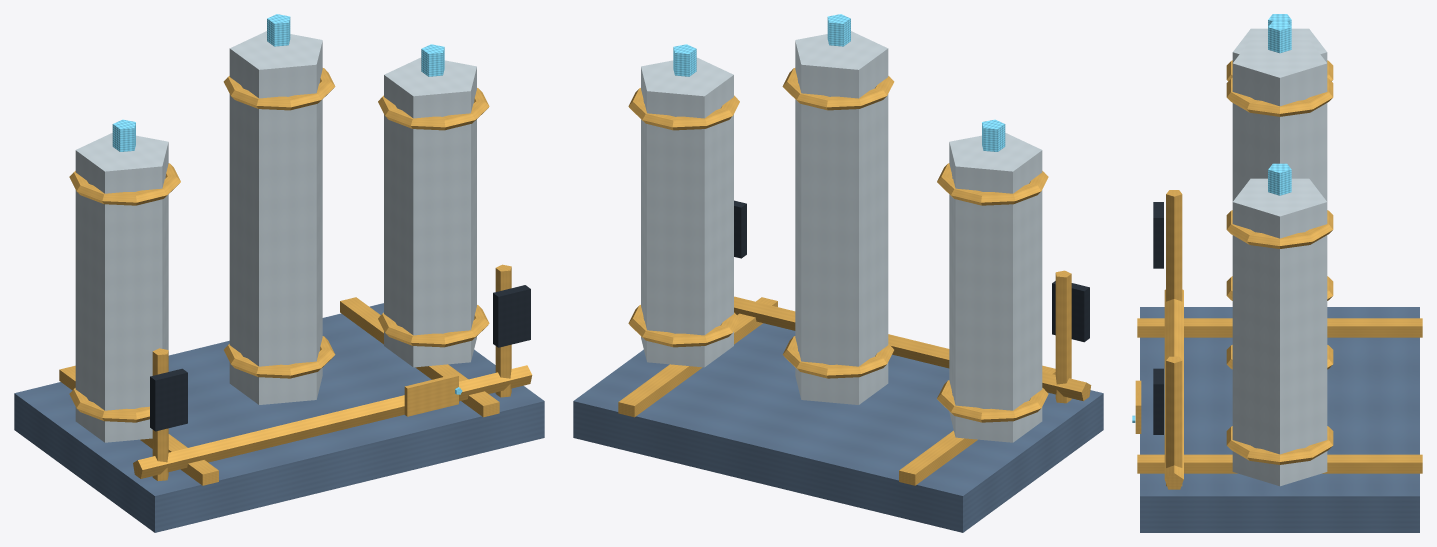
Rendered from atlas100-s055-a02.lod1.glb.
3 views of the same model, side by side, from view 1: azimuth 30°, elevation 25°; view 2: azimuth 150°, elevation 25°; view 3: azimuth 270°, elevation 25° (orthographic).
Visible parts, largest first — view 1: atlas100-s055-a02:part-000, atlas100-s055-a02:part-007, atlas100-s055-a02:part-011, atlas100-s055-a02:part-003, atlas100-s055-a02:part-019, atlas100-s055-a02:part-002, atlas100-s055-a02:part-016, atlas100-s055-a02:part-018, atlas100-s055-a02:part-020, atlas100-s055-a02:part-009, atlas100-s055-a02:part-005, atlas100-s055-a02:part-008 (+9 smaller); view 2: atlas100-s055-a02:part-000, atlas100-s055-a02:part-007, atlas100-s055-a02:part-003, atlas100-s055-a02:part-011, atlas100-s055-a02:part-019, atlas100-s055-a02:part-002, atlas100-s055-a02:part-015, atlas100-s055-a02:part-001, atlas100-s055-a02:part-004, atlas100-s055-a02:part-009, atlas100-s055-a02:part-005, atlas100-s055-a02:part-008 (+7 smaller); view 3: atlas100-s055-a02:part-000, atlas100-s055-a02:part-011, atlas100-s055-a02:part-007, atlas100-s055-a02:part-002, atlas100-s055-a02:part-001, atlas100-s055-a02:part-019, atlas100-s055-a02:part-017, atlas100-s055-a02:part-015, atlas100-s055-a02:part-012, atlas100-s055-a02:part-013, atlas100-s055-a02:part-009, atlas100-s055-a02:part-003 (+5 smaller).
Part boxes in pixels (left/top/right/bottom): atlas100-s055-a02:part-000: left=14, top=303, right=544, bottom=532; atlas100-s055-a02:part-007: left=229, top=31, right=322, bottom=404; atlas100-s055-a02:part-011: left=384, top=57, right=476, bottom=367; atlas100-s055-a02:part-003: left=75, top=133, right=168, bottom=442; atlas100-s055-a02:part-019: left=133, top=365, right=532, bottom=478; atlas100-s055-a02:part-002: left=340, top=297, right=499, bottom=417; atlas100-s055-a02:part-016: left=150, top=368, right=187, bottom=431; atlas100-s055-a02:part-018: left=493, top=285, right=530, bottom=347; atlas100-s055-a02:part-020: left=404, top=374, right=458, bottom=416; atlas100-s055-a02:part-009: left=223, top=68, right=335, bottom=110; atlas100-s055-a02:part-005: left=69, top=163, right=180, bottom=205; atlas100-s055-a02:part-008: left=224, top=336, right=335, bottom=378; atlas100-s055-a02:part-000: left=573, top=323, right=1103, bottom=532; atlas100-s055-a02:part-007: left=795, top=31, right=888, bottom=404; atlas100-s055-a02:part-003: left=949, top=133, right=1042, bottom=442; atlas100-s055-a02:part-011: left=641, top=57, right=733, bottom=367; atlas100-s055-a02:part-019: left=734, top=296, right=1091, bottom=401; atlas100-s055-a02:part-002: left=618, top=297, right=777, bottom=417; atlas100-s055-a02:part-015: left=1055, top=270, right=1071, bottom=403; atlas100-s055-a02:part-001: left=899, top=365, right=1055, bottom=485; atlas100-s055-a02:part-004: left=937, top=380, right=1048, bottom=422; atlas100-s055-a02:part-009: left=782, top=68, right=894, bottom=110; atlas100-s055-a02:part-005: left=937, top=163, right=1048, bottom=205; atlas100-s055-a02:part-008: left=782, top=336, right=893, bottom=378; atlas100-s055-a02:part-000: left=1140, top=307, right=1419, bottom=532; atlas100-s055-a02:part-011: left=1232, top=178, right=1327, bottom=486; atlas100-s055-a02:part-007: left=1232, top=40, right=1327, bottom=201; atlas100-s055-a02:part-002: left=1137, top=454, right=1422, bottom=473; atlas100-s055-a02:part-001: left=1137, top=318, right=1422, bottom=337; atlas100-s055-a02:part-019: left=1164, top=289, right=1183, bottom=489; atlas100-s055-a02:part-017: left=1166, top=356, right=1182, bottom=486; atlas100-s055-a02:part-015: left=1166, top=190, right=1182, bottom=301; atlas100-s055-a02:part-012: left=1226, top=426, right=1333, bottom=464; atlas100-s055-a02:part-013: left=1226, top=210, right=1333, bottom=248; atlas100-s055-a02:part-009: left=1226, top=78, right=1333, bottom=116; atlas100-s055-a02:part-003: left=1232, top=28, right=1327, bottom=62.
Bounding box in the file's own units: 3 × 2.93 × 1.87.
5 materials, 5 textured.
